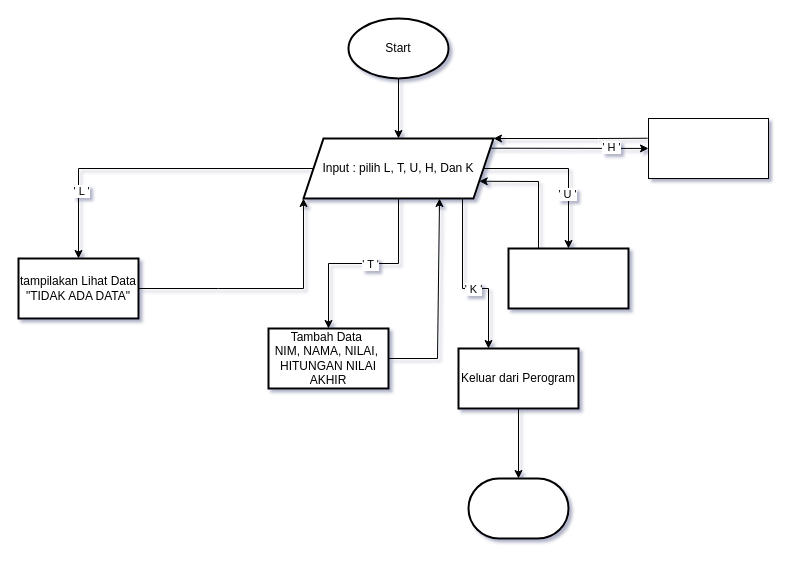
The diagram is 792 pixels wide and 562 high, and some of its shapes have lost their labels. Each missing label, with the box of its shape:
END: (467, 477, 569, 539)
Hapus Data Cari nama, Jika data ingin dihapuskan: (648, 118, 768, 178)
Ubah Data Cari nama, Ubah: (507, 247, 629, 309)
